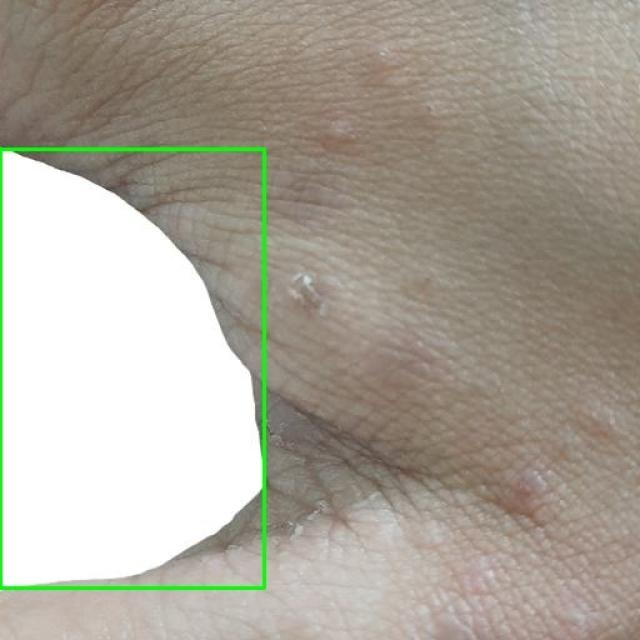Scabies: (0, 149, 264, 588)
